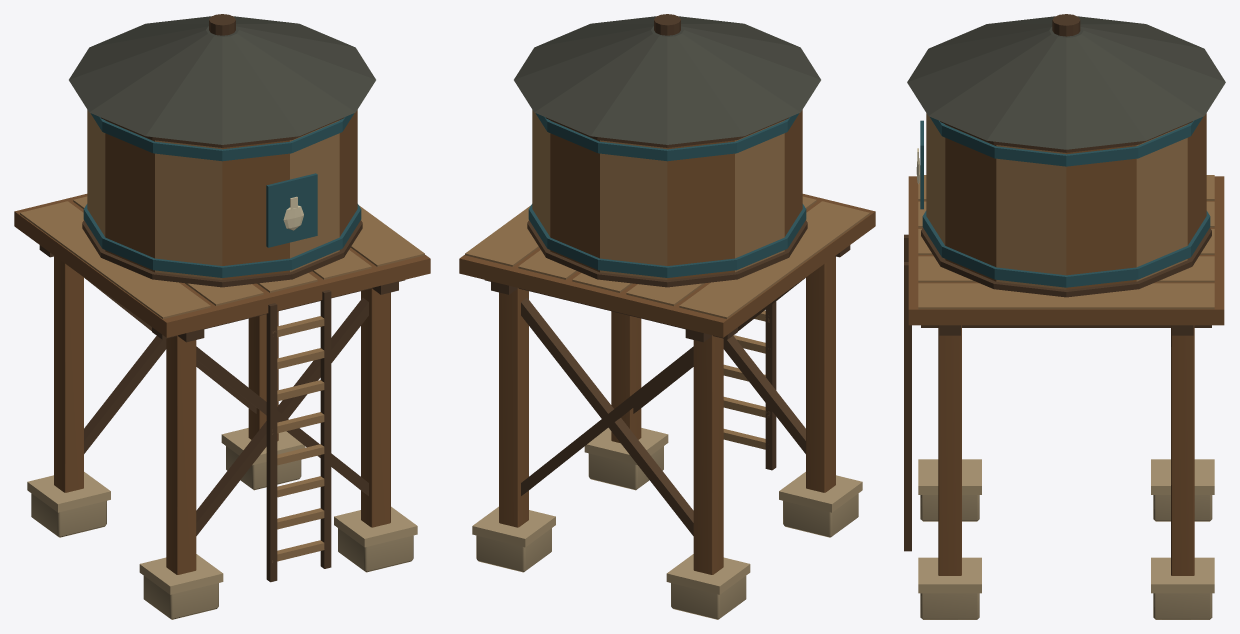
Rendered from lwf_water_tower_prototype_v1.glb.
3 views of the same model, side by side, from view 1: azimuth 30°, elevation 25°; view 2: azimuth 150°, elevation 25°; view 3: azimuth 270°, elevation 25° (orthographic). The views are drawn at different scales.
Visible parts, largest first — view 1: LWF_WaterTowerV1_Support, LWF_WaterTowerV1_Tank, LWF_WaterTowerV1_Roof, LWF_WaterTowerV1_Ladder; view 2: LWF_WaterTowerV1_Support, LWF_WaterTowerV1_Tank, LWF_WaterTowerV1_Roof, LWF_WaterTowerV1_Ladder; view 3: LWF_WaterTowerV1_Tank, LWF_WaterTowerV1_Support, LWF_WaterTowerV1_Roof, LWF_WaterTowerV1_Ladder.
Part boxes in pixels (x1,y1,x2,y2): LWF_WaterTowerV1_Support: (14,194,430,619); LWF_WaterTowerV1_Tank: (82,110,362,287); LWF_WaterTowerV1_Roof: (69,14,375,144); LWF_WaterTowerV1_Ladder: (266,290,331,582); LWF_WaterTowerV1_Support: (459,194,875,619); LWF_WaterTowerV1_Tank: (527,110,807,287); LWF_WaterTowerV1_Roof: (514,14,820,144); LWF_WaterTowerV1_Ladder: (723,301,776,470); LWF_WaterTowerV1_Tank: (916,113,1211,297); LWF_WaterTowerV1_Support: (908,175,1224,619); LWF_WaterTowerV1_Roof: (907,14,1225,149); LWF_WaterTowerV1_Ladder: (904,234,911,551).
Bounding box in the file's own units: 2.96 × 5.52 × 2.99.
